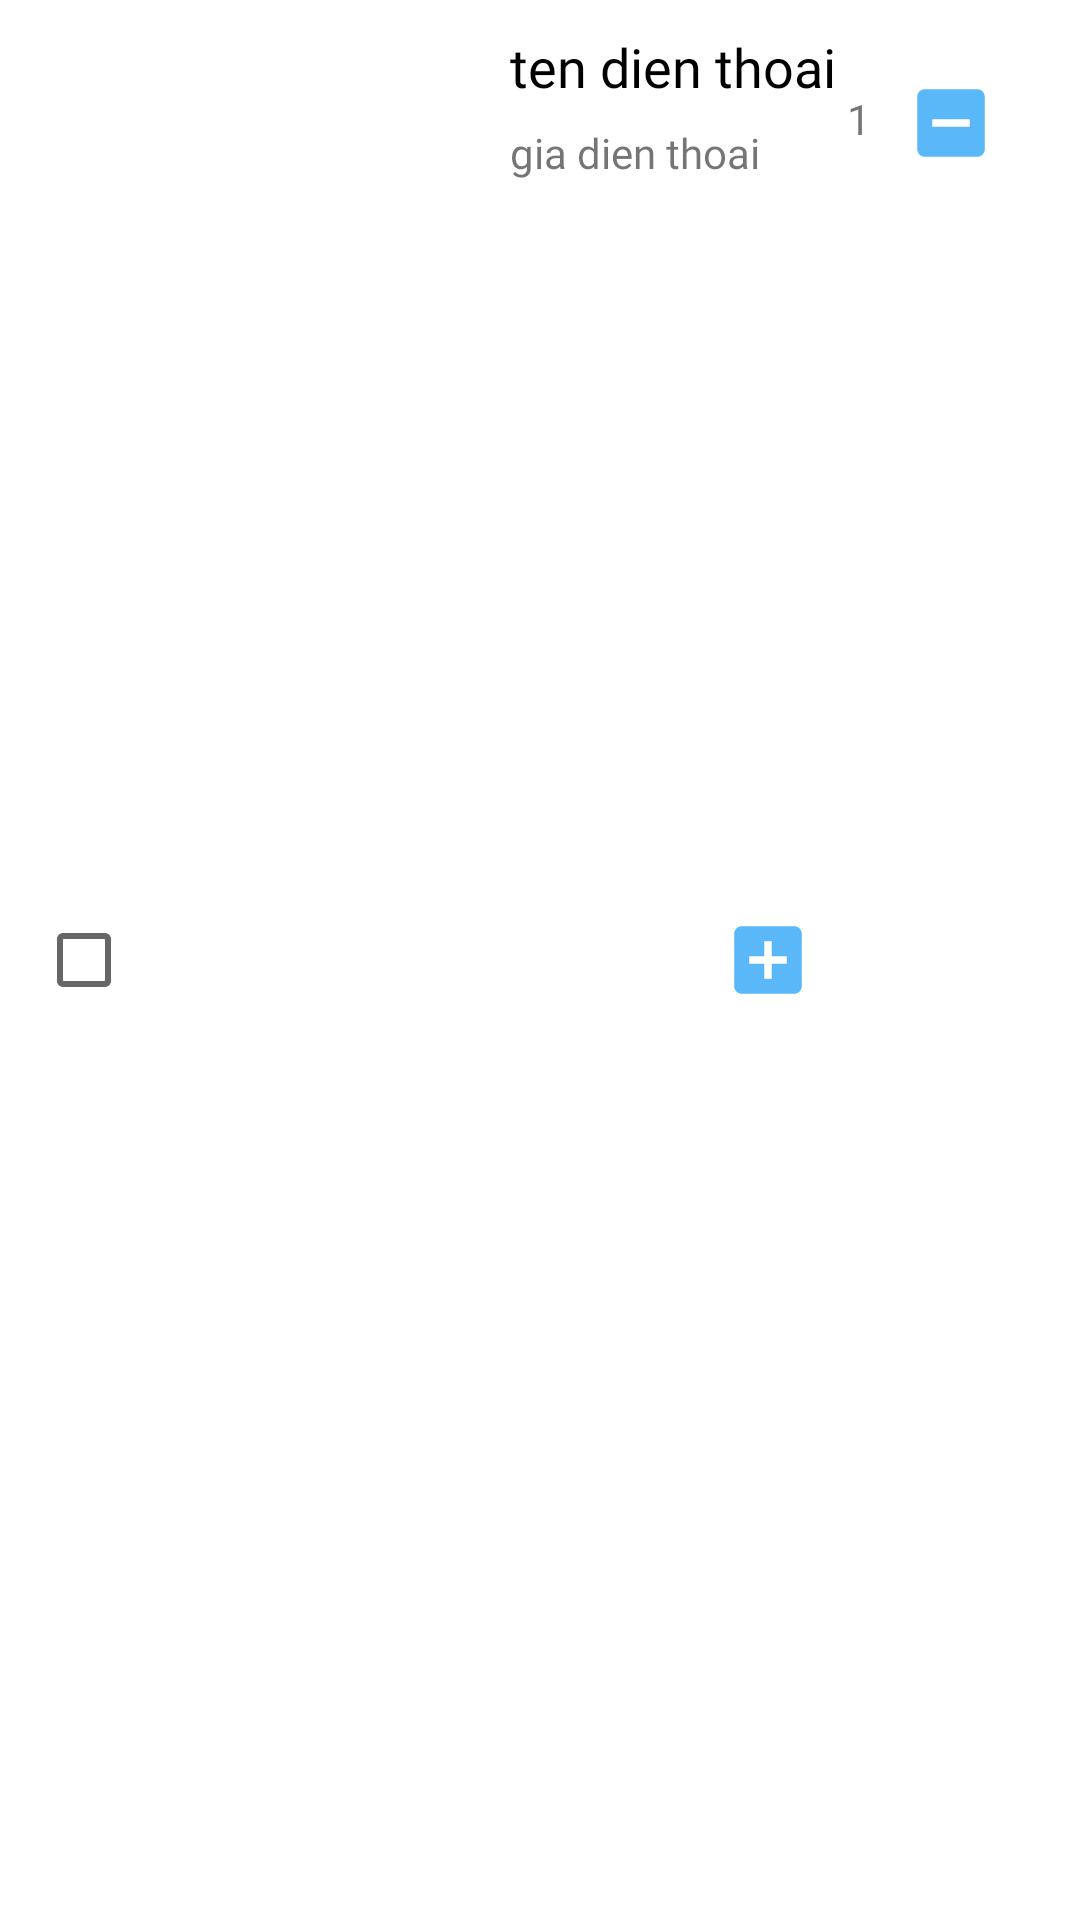

Screen size 1080x1920. Icon name, then its center in pixels as (x,y):
add box: (768,960)
indeterminate check box: (951,123)
